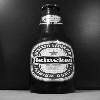beer: (27, 2, 78, 94)
